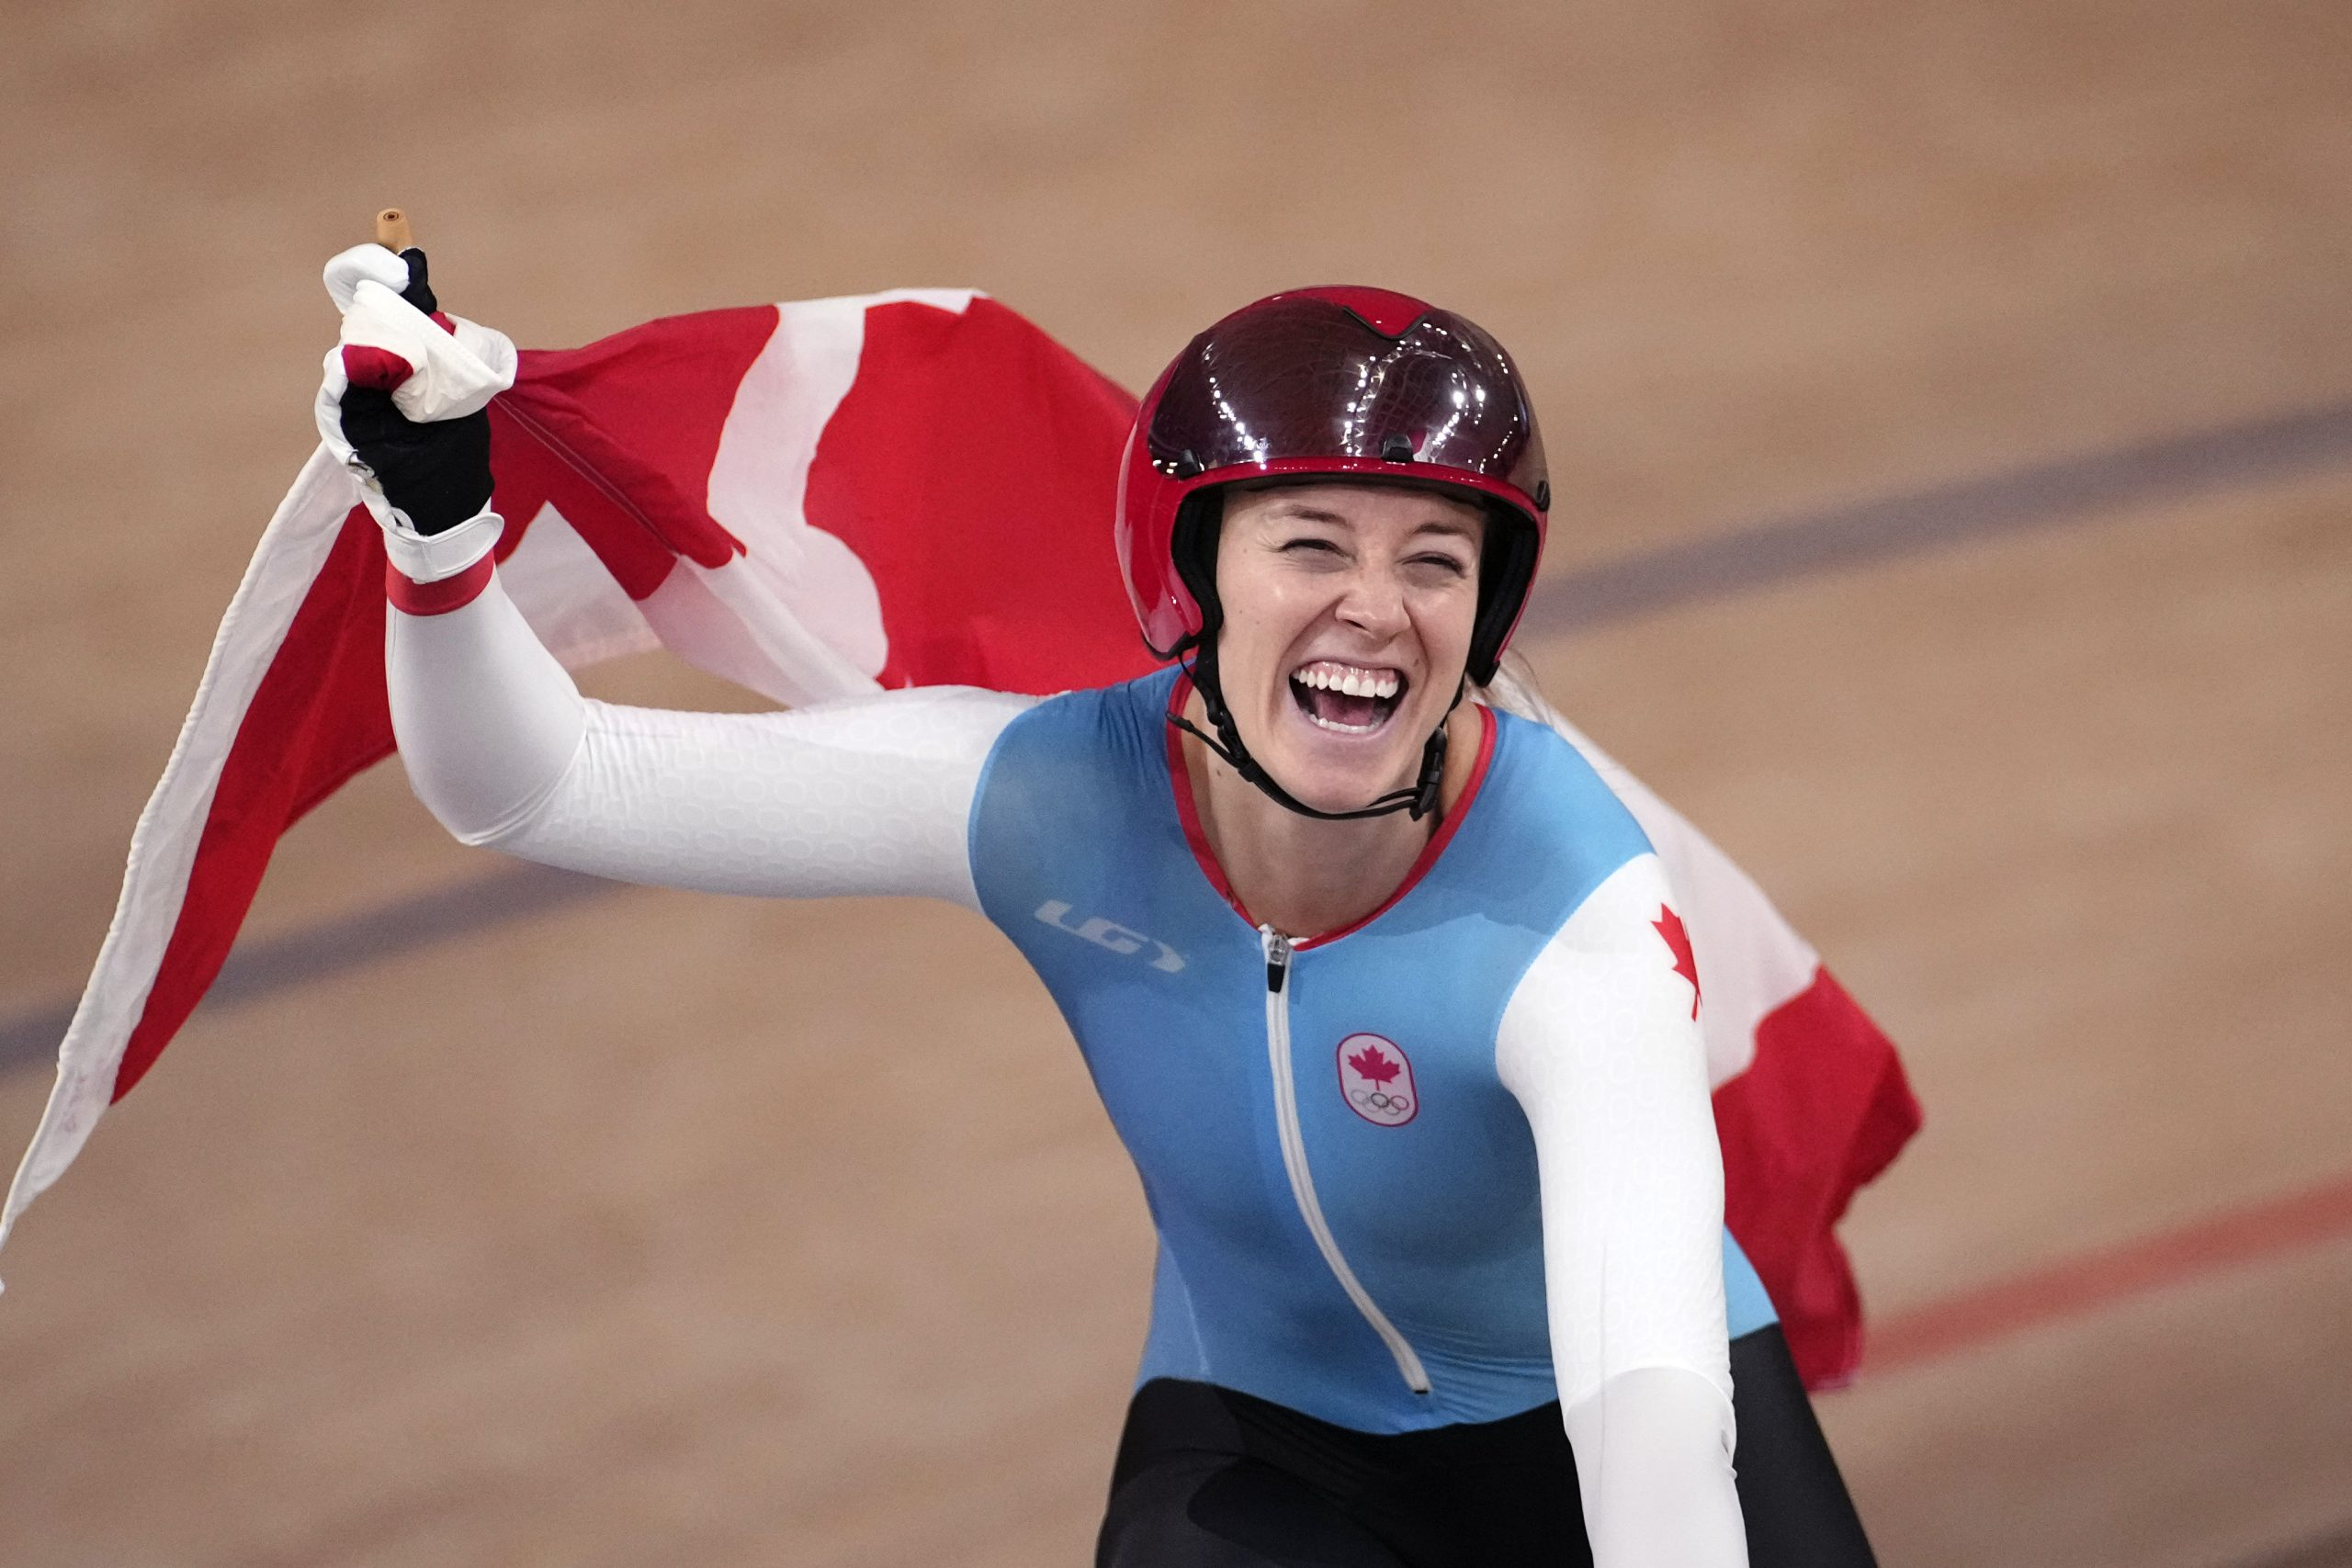without_mask: (1223, 491, 1477, 804)
